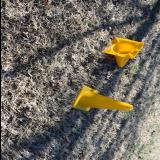cone: (70, 85, 132, 112), (102, 37, 144, 67)
